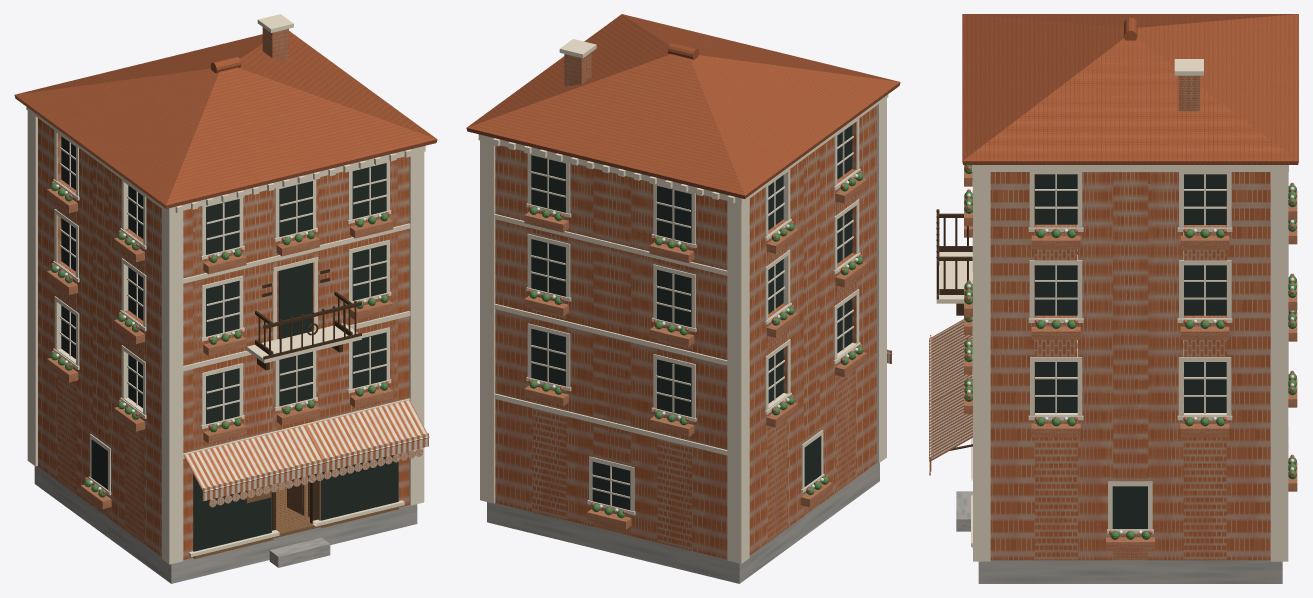
Rendered from gedung-g02-blender-v3.glb.
The picture shows the model from 3 angles, left to right: view 1: azimuth 30°, elevation 25°; view 2: azimuth 150°, elevation 25°; view 3: azimuth 270°, elevation 25°; orthographic projection. The views are drawn at different scales.
Parts seen in each view (by area): view 1: Blk_B1, Atap, BalkSlab, EtalKaca-2.05, AwningTop, Plinth, Arm-3.2, W1_-2.4_Daun0, IntWood, EtalBulk_-2.05; view 2: Blk_B1, Atap, BalkSlab, EtalKaca-2.05, Plinth, W1_-2.4_Daun0; view 3: Blk_B1, Atap, BalkSlab, EtalKaca-2.05, Plinth, AwningTop, W1_-2.4_Daun0, Arm-3.2, W1_-2.4_B0, W1_-2.4_B1.
Boxes of the visible parts, box(x1,y1,x2,y2) form: Blk_B1: box(38, 27, 409, 559); Atap: box(14, 31, 437, 208); BalkSlab: box(26, 14, 425, 564); EtalKaca-2.05: box(61, 136, 398, 551); AwningTop: box(183, 400, 429, 507); Plinth: box(34, 466, 417, 583); Arm-3.2: box(255, 269, 361, 530); W1_-2.4_Daun0: box(50, 183, 388, 497); IntWood: box(271, 473, 321, 538); EtalBulk_-2.05: box(193, 485, 399, 558); Blk_B1: box(495, 52, 876, 559); Atap: box(466, 14, 900, 198); BalkSlab: box(478, 39, 888, 563); EtalKaca-2.05: box(531, 125, 852, 509); Plinth: box(487, 463, 879, 583); W1_-2.4_Daun0: box(529, 172, 863, 518); Blk_B1: box(964, 75, 1297, 560); Atap: box(962, 14, 1298, 164); BalkSlab: box(936, 59, 1288, 561); EtalKaca-2.05: box(1035, 174, 1226, 528); Plinth: box(956, 491, 1282, 583); AwningTop: box(929, 319, 972, 475); W1_-2.4_Daun0: box(964, 165, 1296, 539); Arm-3.2: box(936, 209, 972, 450); W1_-2.4_B0: box(966, 166, 1294, 534); W1_-2.4_B1: box(966, 187, 1294, 534).
Bounding box in the file's own units: 8.9 × 13.92 × 9.45.
15 materials, 5 textured.
